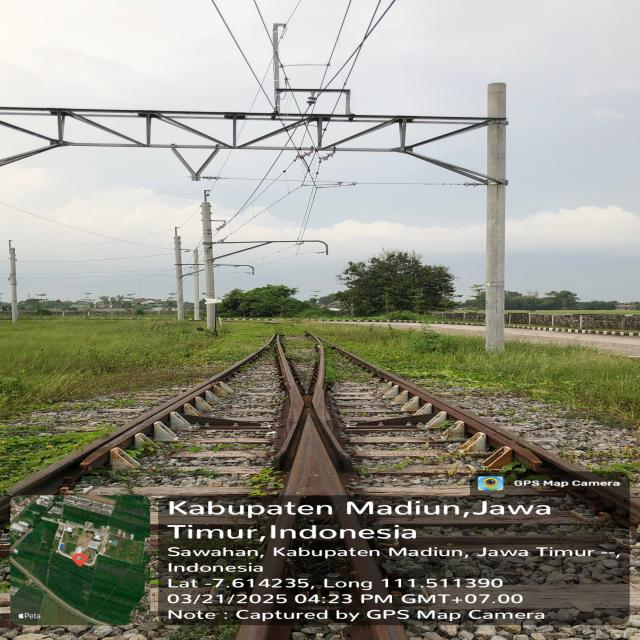rail-detection: (10, 342, 270, 496), (330, 343, 599, 481), (280, 415, 349, 496), (276, 335, 304, 450), (312, 344, 332, 431), (598, 490, 640, 511)
